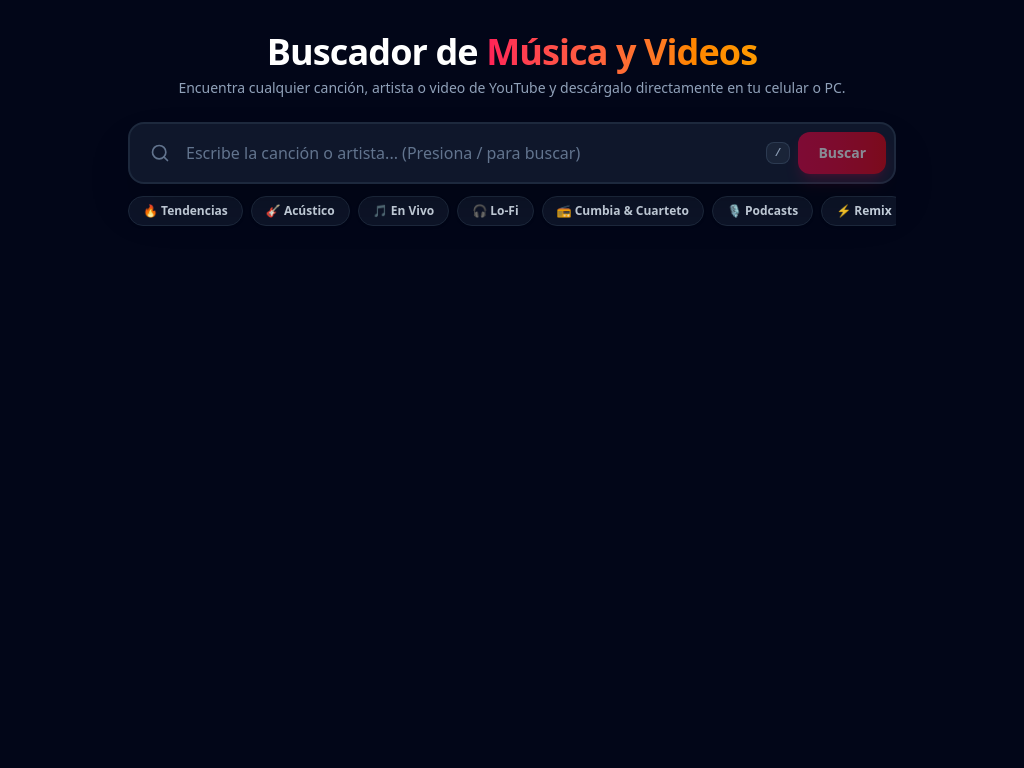
Test: SearchHistory & Touch Theme Chips Tests › muestra todos los chips temáticos y al tocar uno autocompleta y ejecuta la búsqueda
expect the button "🔥 Tendencias" is shown: met, box [128,196,243,226]
expect the button "🎸 Acústico" is shown: met, box [251,196,350,226]
// Al hacer click en "🎧 Lo-Fi"
Click the button "🎧 Lo-Fi": point(495, 211) [457,196,534,226]
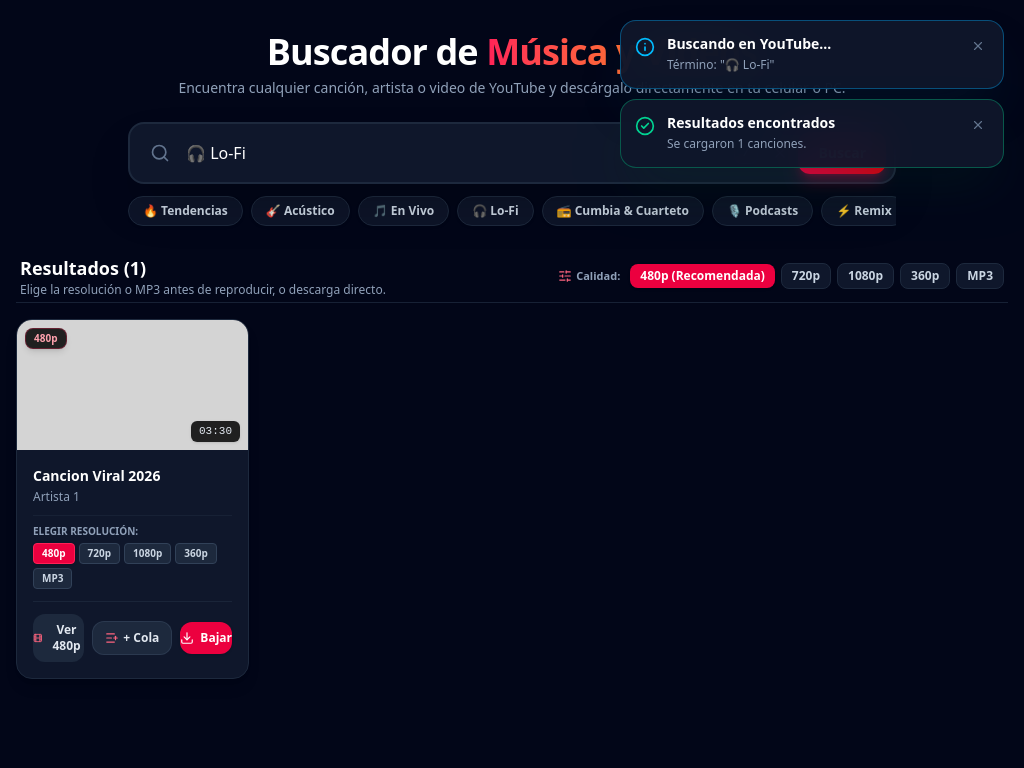
expect the field with placeholder "Escribe la canción o artista... (Presiona / para buscar)" holds "🎧 Lo-Fi": met, box [178,133,734,173]
